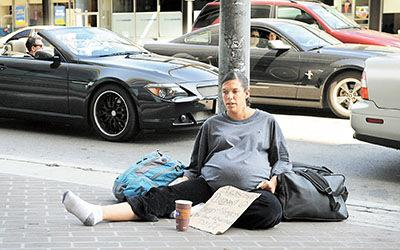fall: (53, 66, 308, 235)
